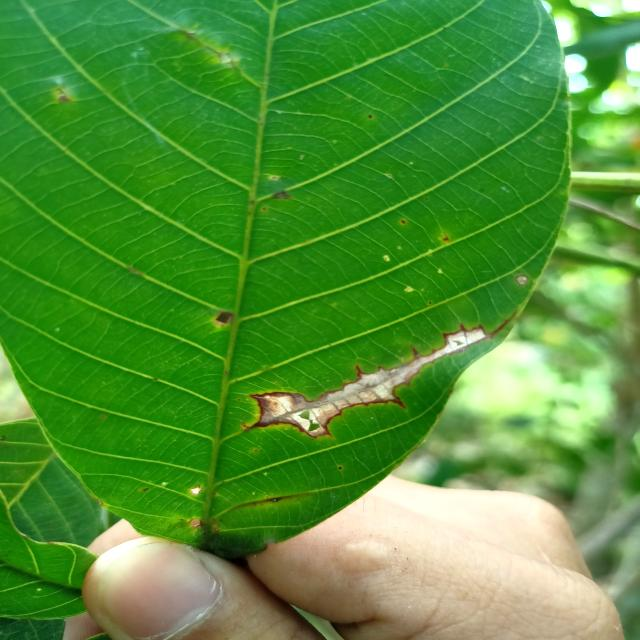Colletotrichum: (514, 274, 529, 286)
Corynespora: (240, 310, 517, 439), (338, 466, 342, 469)
